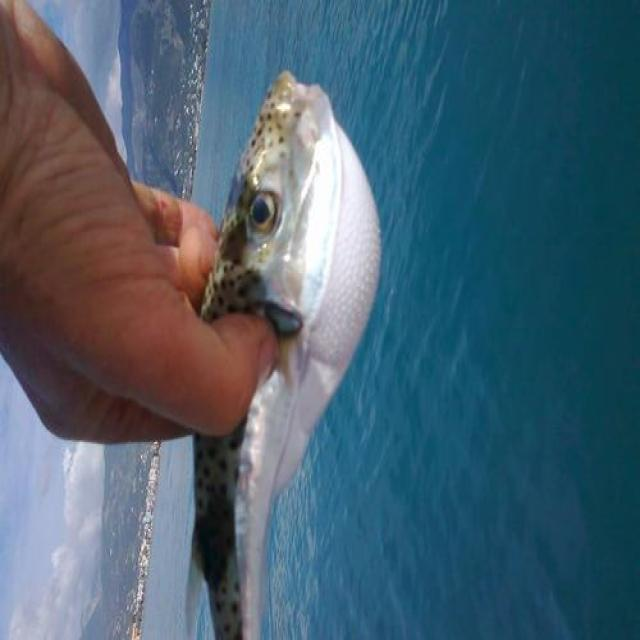Balik: (194, 72, 380, 639)
